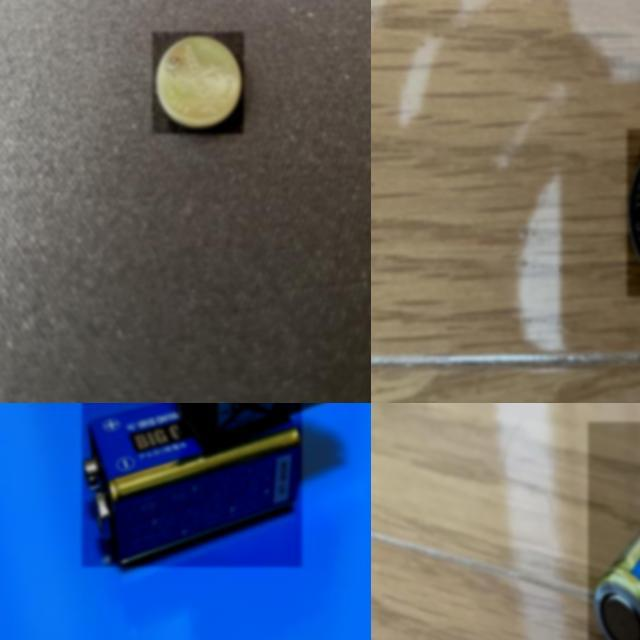9V: (82, 403, 302, 567), (173, 403, 371, 448)
